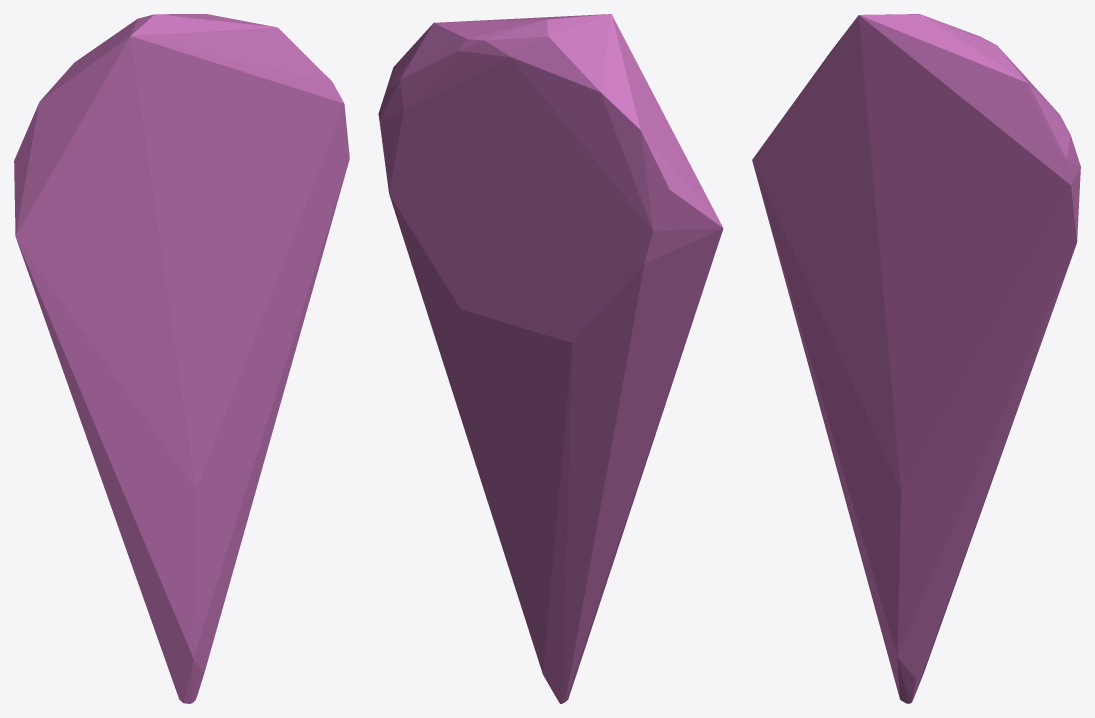
The model's file is kitchenware_pan_v01.glb.
The picture shows the model from 3 angles, left to right: view 1: azimuth 30°, elevation 25°; view 2: azimuth 150°, elevation 25°; view 3: azimuth 330°, elevation 25°; orthographic projection. The views are drawn at different scales.
Visible parts, largest first — view 1: geometry_0; view 2: geometry_0; view 3: geometry_0.
Part boxes in pixels (x1,y1,x2,y2): geometry_0: [14, 14, 349, 703]; geometry_0: [378, 14, 723, 703]; geometry_0: [752, 14, 1080, 703].
Bounding box in the file's own units: 0.2421 × 0.4732 × 0.0594.
